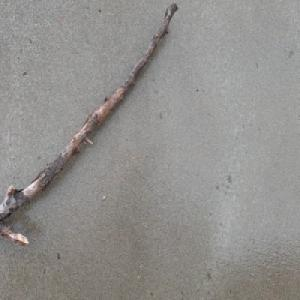Wood: (0, 0, 178, 246)
